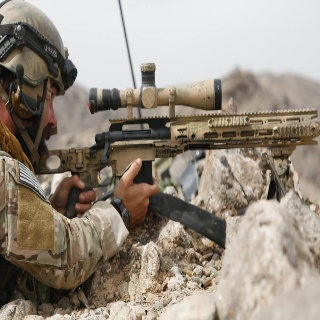rifle: (35, 62, 320, 187)
